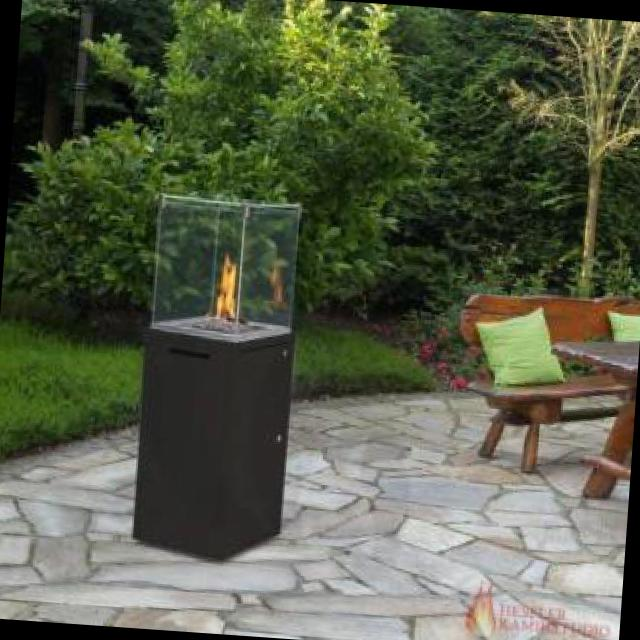Fire: (202, 246, 250, 341)
